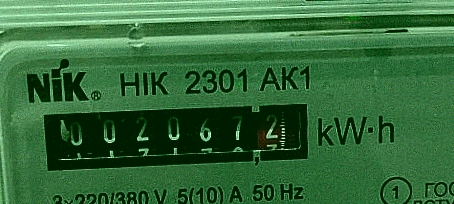0: (162, 112, 182, 141), (66, 118, 85, 148), (100, 115, 118, 145)
2: (261, 110, 281, 140), (132, 113, 151, 143)
6: (196, 113, 215, 143)
7: (229, 112, 246, 143)
screen: (29, 89, 324, 184)
